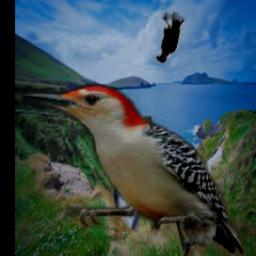Crow: (156, 9, 185, 64)
Woodpecker: (21, 84, 247, 256)
